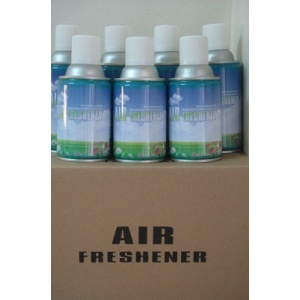Aerosol_cans: (166, 33, 227, 165), (112, 35, 171, 164), (56, 32, 113, 165)
